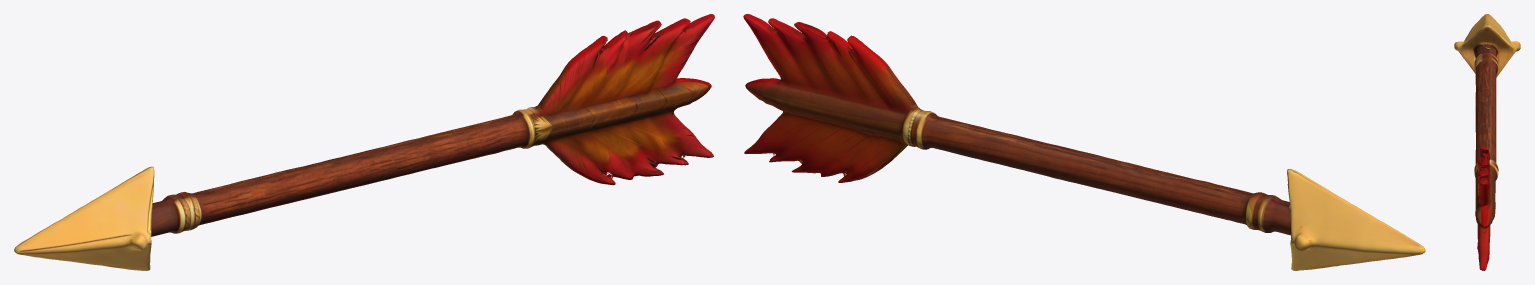
File: Golden_Arrow_in_the_D_1020080418_texture.fbx
The picture shows the model from 3 angles, left to right: view 1: azimuth 30°, elevation 25°; view 2: azimuth 150°, elevation 25°; view 3: azimuth 270°, elevation 25°; orthographic projection. The views are drawn at different scales.
Visible parts, largest first — view 1: input; view 2: input; view 3: input.
Boxes of the visible parts, box(x1,y1,x2,y2) form: input: box(14, 14, 714, 270); input: box(743, 14, 1425, 270); input: box(1454, 14, 1520, 270).
Size of the model in its own units: 190 by 39.81 by 25.26.
Materials: 1 (1 with a texture image).
